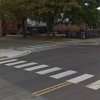crosswalk: (0, 58, 100, 90)
